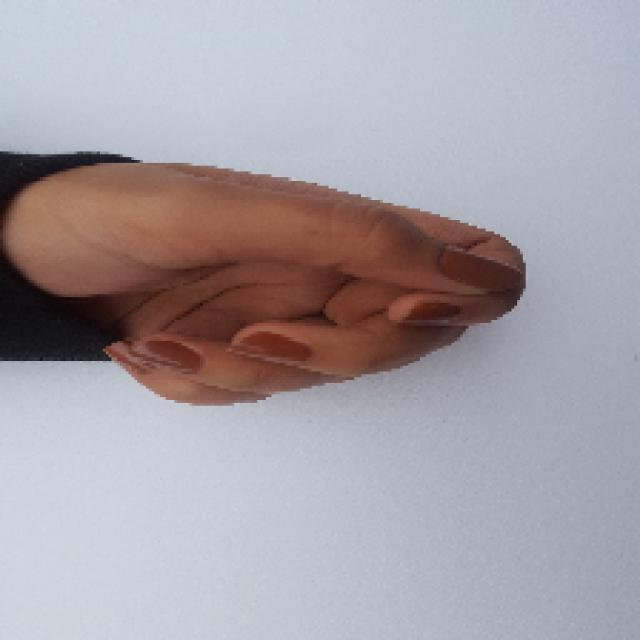Nail: (439, 246, 522, 291), (134, 337, 204, 373), (234, 330, 311, 362), (105, 340, 159, 373), (405, 300, 460, 321)
